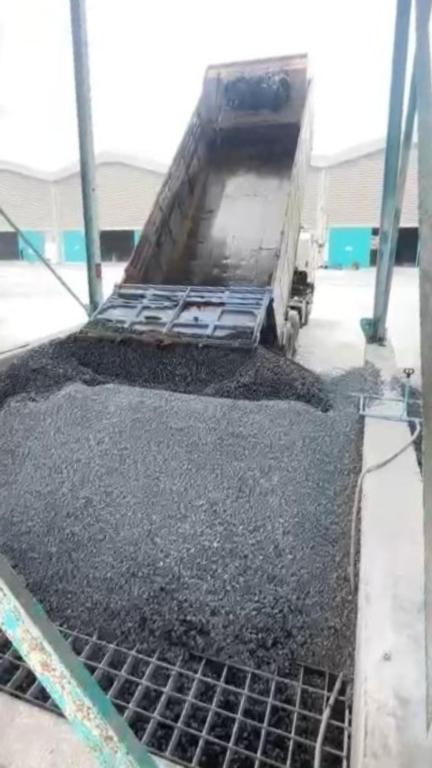gravel: (0, 312, 386, 670), (169, 171, 209, 283)
